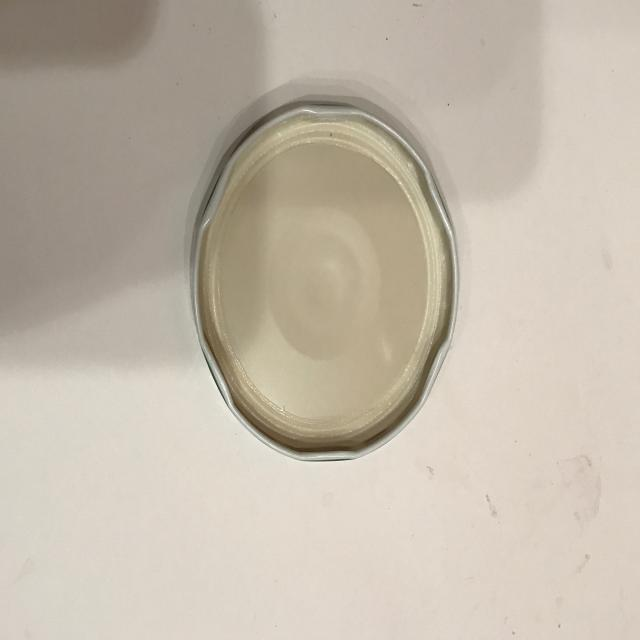Metal: (175, 101, 502, 476)
